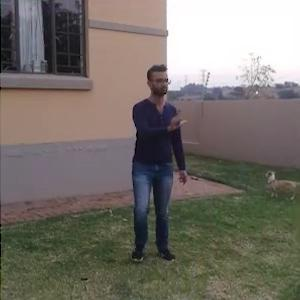land_hand: (161, 106, 186, 136)
